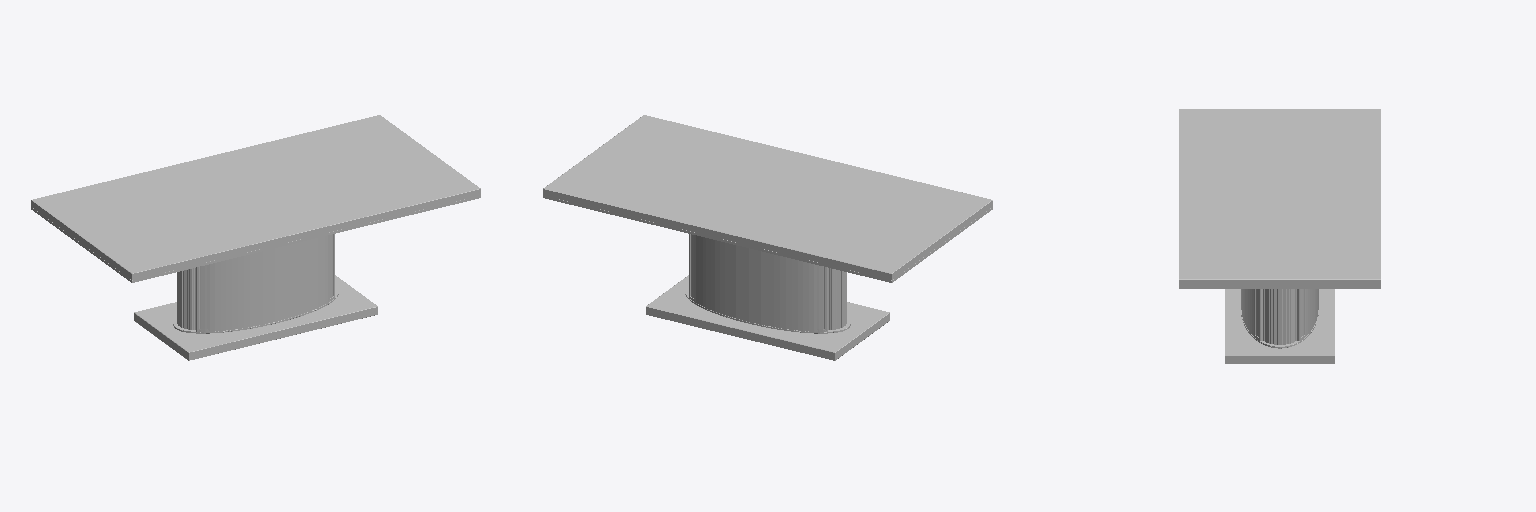
The model's file is turri_table01.obj.
3 renders of one model, left to right at view 1: azimuth 30°, elevation 25°; view 2: azimuth 150°, elevation 25°; view 3: azimuth 270°, elevation 25°, orthographic.
Parts seen in each view (by area): view 1: Component_9_001, Ellipse032, Component_10_001, Line043, Arc001; view 2: Component_9_001, Ellipse032, Component_10_001, Line043, Arc001; view 3: Component_9_001, Component_10_001, Ellipse032, Arc001, Line043.
Boxes of the visible parts, box(x1,y1,x2,y2) form: Component_9_001: box(31, 115, 480, 279); Ellipse032: box(196, 234, 334, 331); Component_10_001: box(134, 275, 377, 360); Line043: box(31, 196, 480, 282); Arc001: box(177, 268, 195, 329); Component_9_001: box(543, 115, 992, 279); Ellipse032: box(689, 234, 827, 331); Component_10_001: box(646, 275, 889, 360); Line043: box(543, 196, 992, 282); Arc001: box(828, 268, 846, 329); Component_9_001: box(1179, 109, 1380, 285); Component_10_001: box(1225, 289, 1334, 363); Ellipse032: box(1241, 289, 1318, 340); Arc001: box(1263, 289, 1296, 344); Line043: box(1179, 286, 1380, 288).
Size of the model in its own units: 0.2192 by 0.074 by 0.1102.